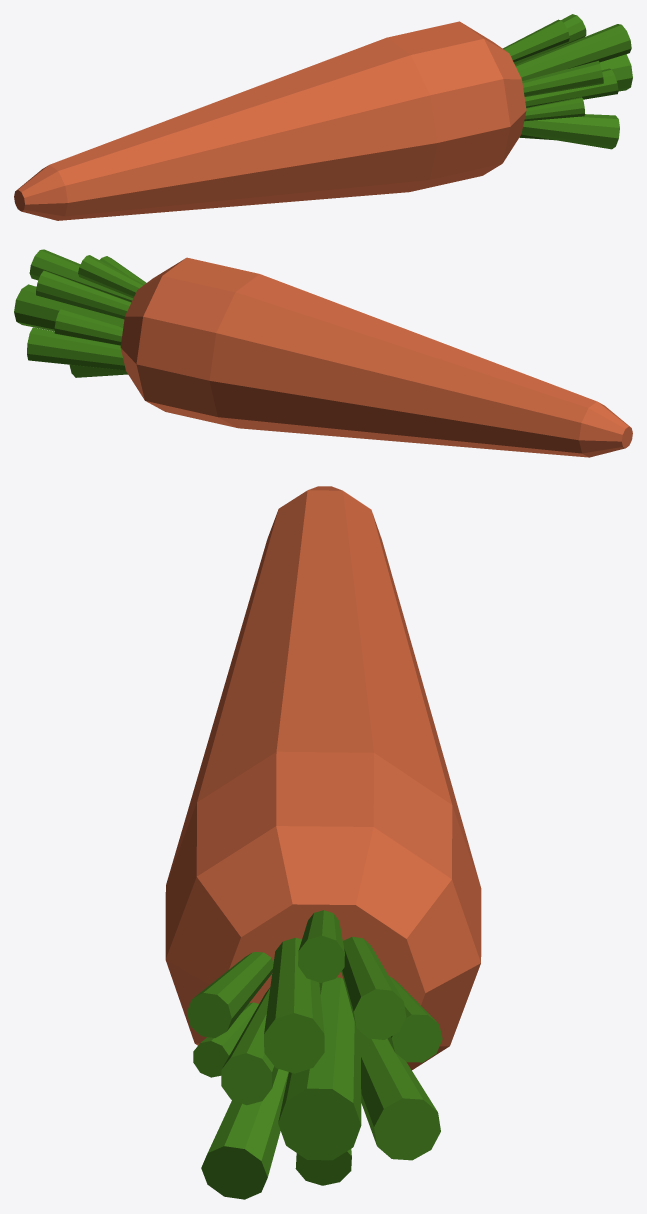
Rendered from carrot.dae.
3 views of the same model, one above another, from view 1: azimuth 30°, elevation 25°; view 2: azimuth 150°, elevation 25°; view 3: azimuth 270°, elevation 25° (orthographic). The views are drawn at different scales.
Visible parts, largest first — view 1: Cylinder_002; view 2: Cylinder_002; view 3: Cylinder_002.
Boxes of the visible parts, x1,y1,x2,y2 form: Cylinder_002: (14, 14, 632, 220); Cylinder_002: (14, 249, 632, 457); Cylinder_002: (165, 486, 481, 1199).
Size of the model in its own units: 8.84 by 2 by 1.93.
